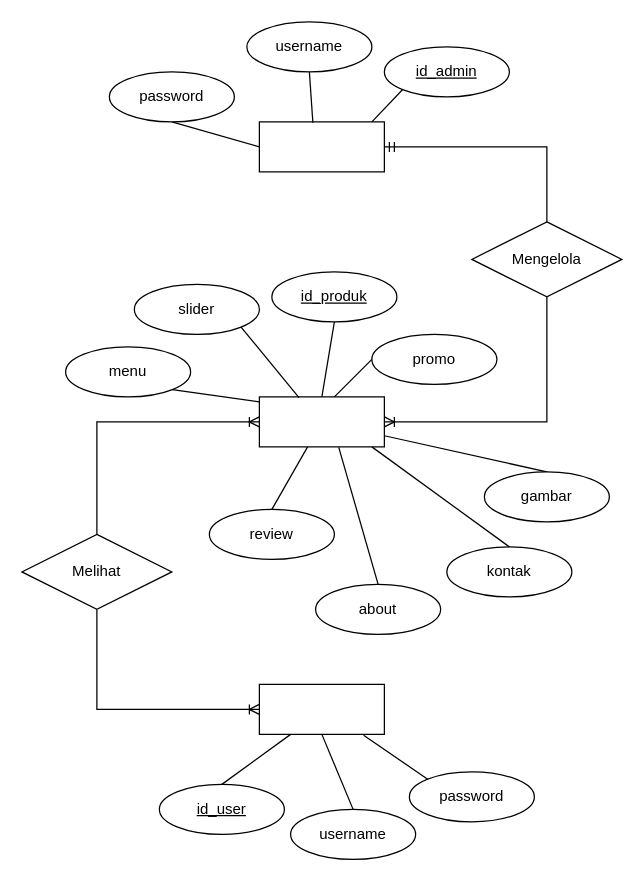
Some shapes in this 644 by 881 pixel diagram are drawn without their labels. Here are the shapes that lost their labels. From the top down, the centre of each, then its label:
the point at 321,146: Admin
the point at 321,421: Produk
the point at 321,708: User
